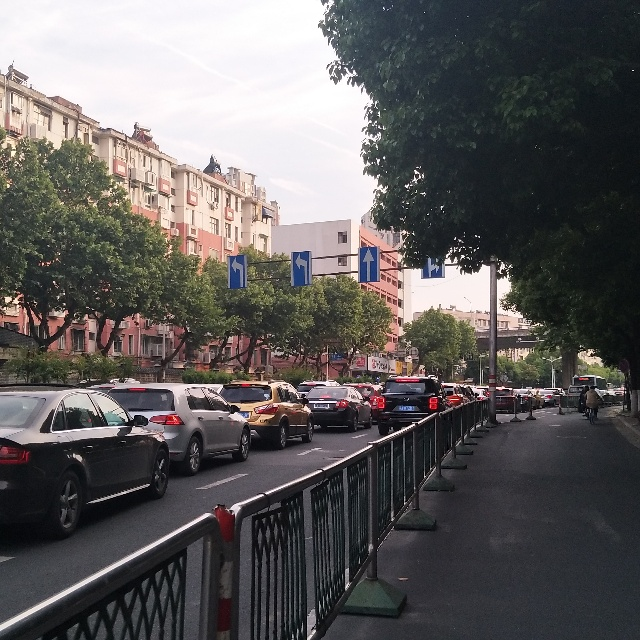left: (225, 253, 247, 289), (293, 252, 310, 289)
straight: (361, 248, 380, 281)
